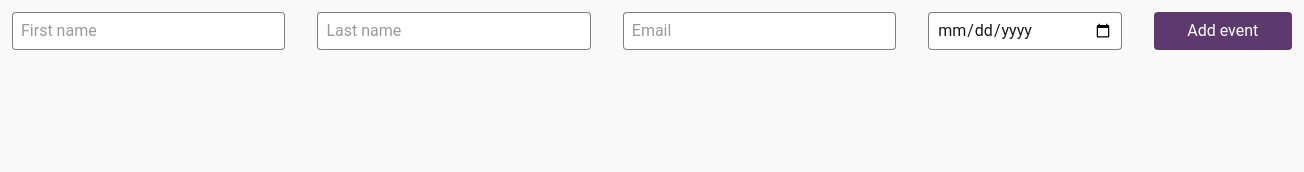
Scenario: <EventsMaker/> › confirm button › should be disabled if inputs errors are visible
Click the button "Add event".
click(1223, 31)  # box top-left (1154, 12), bottom-right (1292, 50)
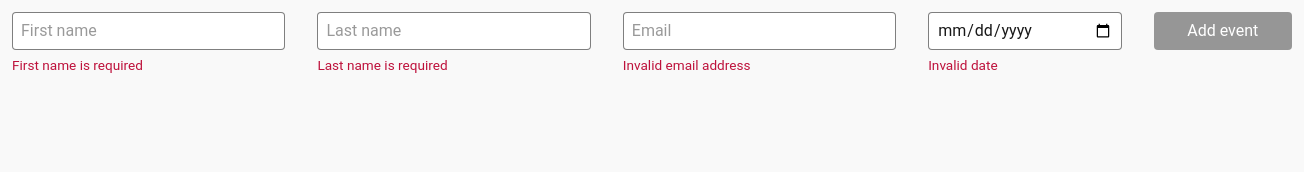
Now the button "Add event" is disabled, box top-left (1154, 12), bottom-right (1292, 50)
Type "some name" into the field with placeholder "First name".
click(149, 31); type("some name")  # box top-left (12, 12), bottom-right (285, 50)
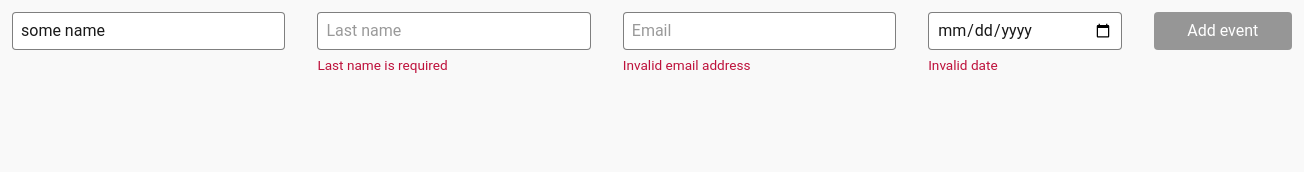
Type "some name" into the field with placeholder "Last name".
click(454, 31); type("some name")  # box top-left (317, 12), bottom-right (591, 50)
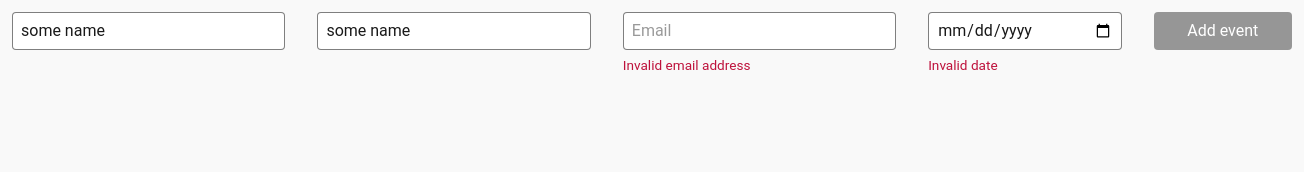
Type "2022-04-19" into the date field with placeholder "Date".
click(1025, 31); type("2022-04-19")  # box top-left (928, 12), bottom-right (1122, 50)
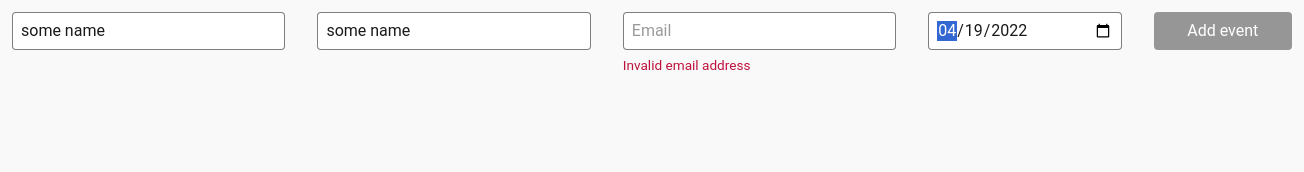
Type "mail@mail.com" into the field with placeholder "Email".
click(760, 31); type("mail@mail.com")  # box top-left (623, 12), bottom-right (896, 50)
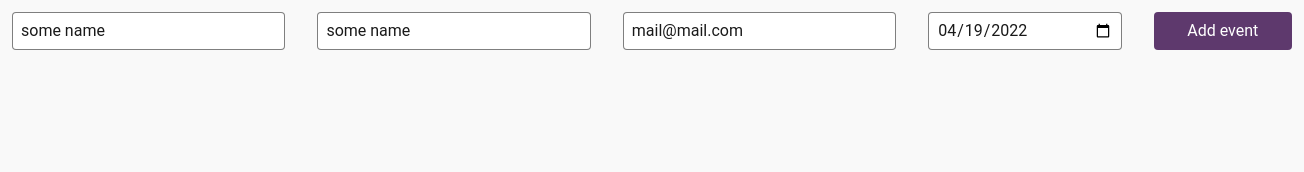
Now the button "Add event" is enabled, box top-left (1154, 12), bottom-right (1292, 50)
